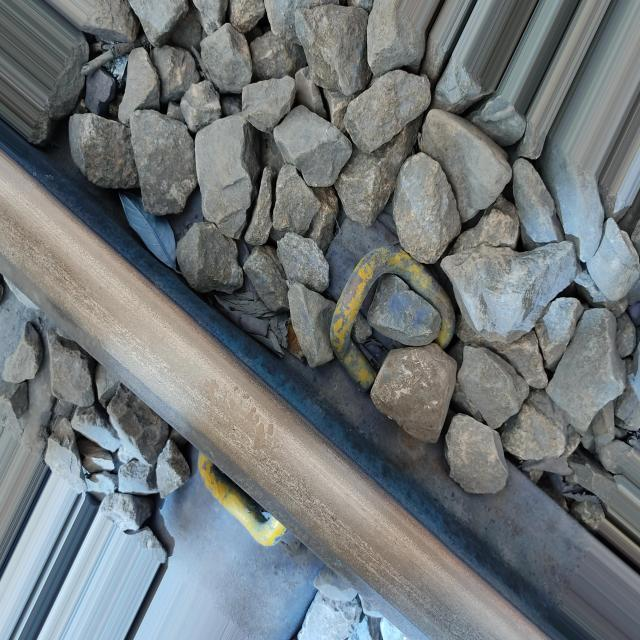Good Fasteners: (326, 220, 454, 390), (199, 453, 286, 546)
